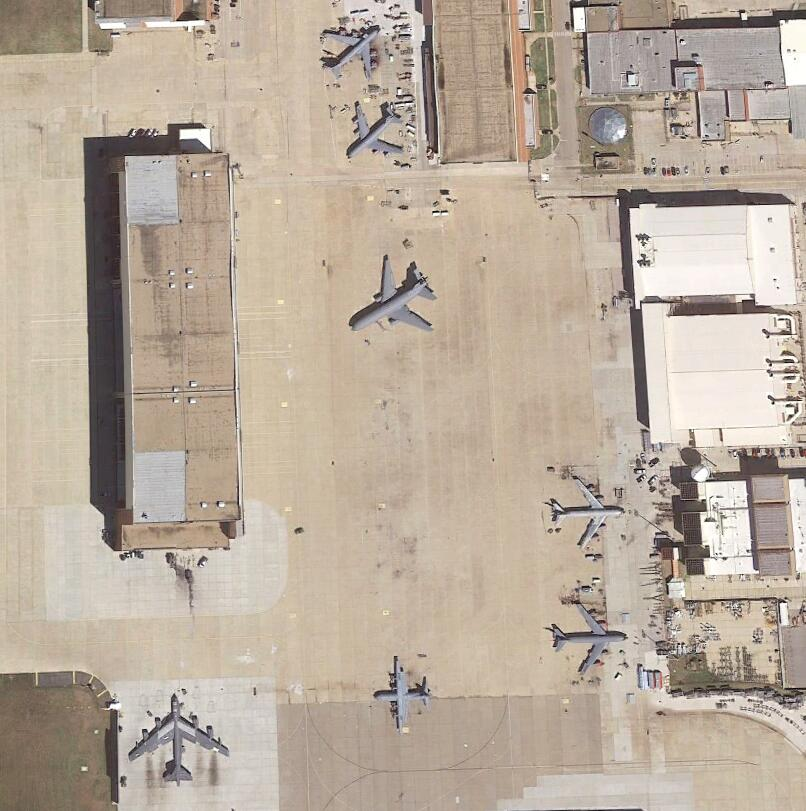A14: (553, 602, 627, 675), (553, 475, 626, 547), (343, 100, 408, 162), (322, 26, 382, 80)
A18: (349, 257, 438, 336)
A2: (374, 657, 432, 734)
A8: (126, 692, 232, 784)
